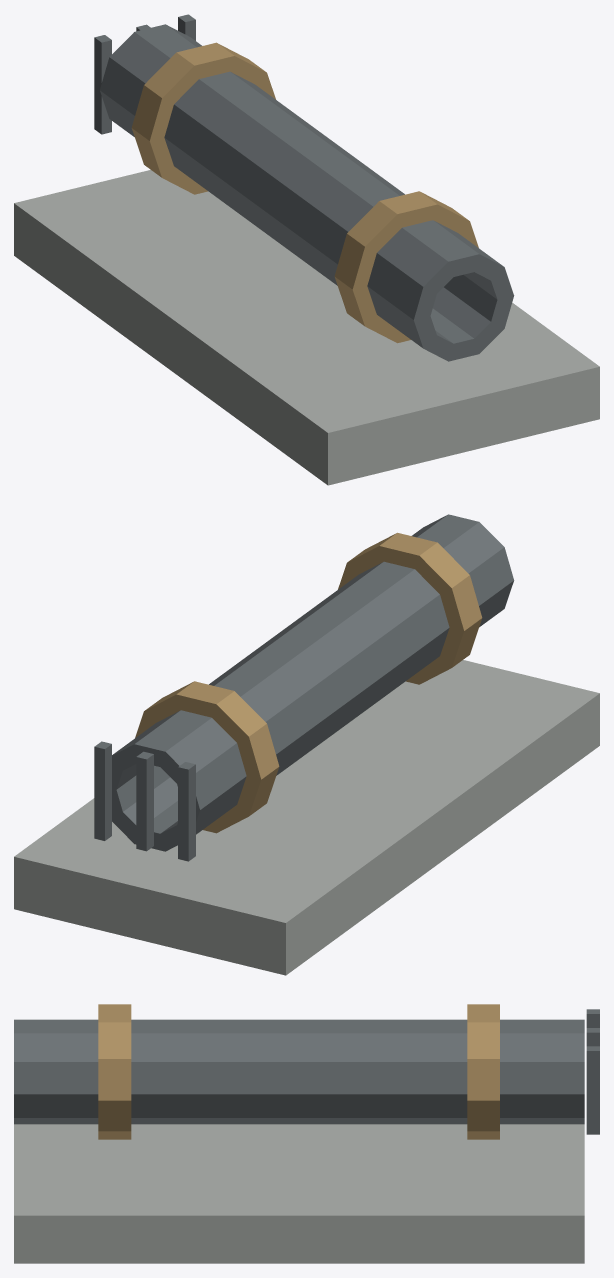
File: vf_water_intake.glb
3 renders of one model, top to bottom at view 1: azimuth 30°, elevation 25°; view 2: azimuth 150°, elevation 25°; view 3: azimuth 270°, elevation 25°, orthographic. The views are drawn at different scales.
Parts seen in each view (by area): view 1: Static_Stone, Static_Iron, Static_Bronze; view 2: Static_Stone, Static_Iron, Static_Bronze; view 3: Static_Stone, Static_Iron, Static_Bronze.
Boxes of the visible parts, x1,y1,x2,y2 form: Static_Stone: [14, 170, 599, 485]; Static_Iron: [94, 14, 514, 361]; Static_Bronze: [131, 42, 478, 343]; Static_Stone: [14, 660, 599, 975]; Static_Iron: [94, 514, 514, 861]; Static_Bronze: [135, 532, 482, 833]; Static_Stone: [14, 1124, 584, 1263]; Static_Iron: [14, 1009, 599, 1134]; Static_Bronze: [98, 1004, 499, 1139].
Size of the model in its own units: 0.65 by 0.4774 by 1.33.
